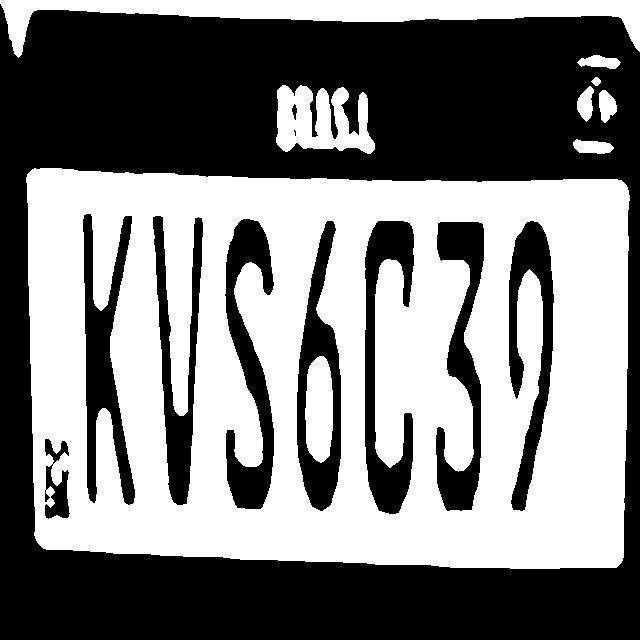3: (427, 222, 492, 518)
6: (284, 219, 354, 525)
9: (494, 218, 560, 506)
c: (362, 222, 426, 523)
k: (63, 182, 140, 490)
s: (208, 214, 280, 516)
v: (147, 190, 200, 484)
